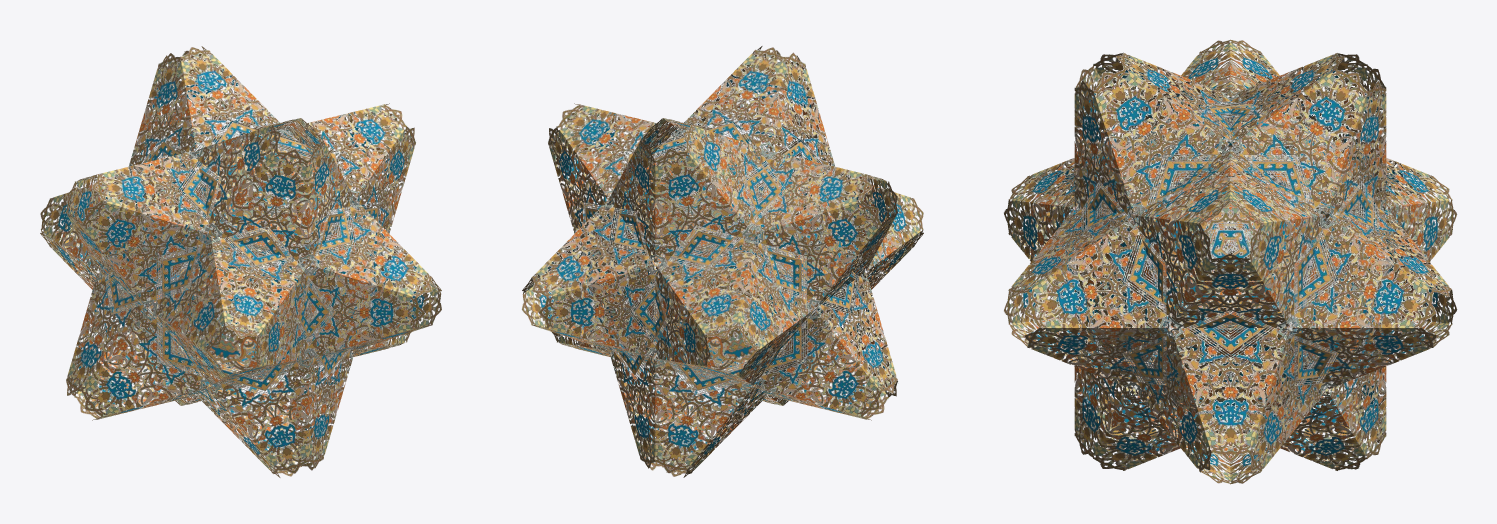
The model's file is SmallStellatedDodecahedron8.obj.
3 renders of one model, left to right at view 1: azimuth 30°, elevation 25°; view 2: azimuth 150°, elevation 25°; view 3: azimuth 270°, elevation 25°, orthographic. The views are drawn at different scales.
Bounding box in the file's own units: 1 × 1 × 1.
1 material, 1 textured.
